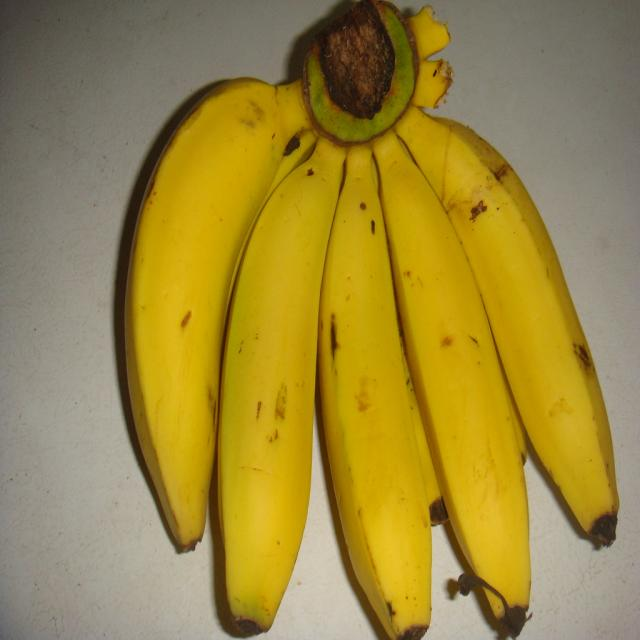Banana: (111, 0, 631, 640), (403, 75, 625, 615), (125, 38, 285, 570), (210, 97, 342, 635), (311, 111, 436, 640)
